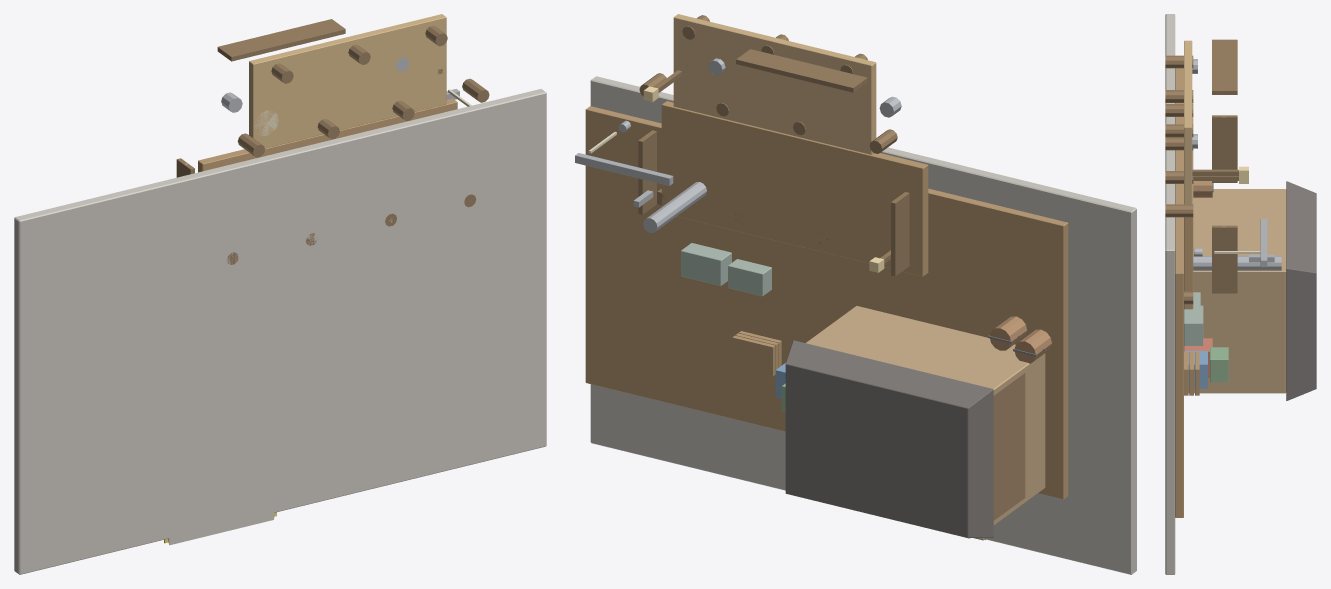
The model's file is docks.fbx.
3 views of the same model, side by side, from view 1: azimuth 30°, elevation 25°; view 2: azimuth 150°, elevation 25°; view 3: azimuth 270°, elevation 25° (orthographic). The views are drawn at different scales.
Visible parts, largest first — view 1: GroundBase, PierDeck_02, LoadingRamp, DockRail_05, PierDeck_01; view 2: CargoPlatform, GroundBase, WarehouseRoof, PierDeck_01, PierDeck_02, WarehouseShed, WarehouseTrim_Side, DockRail_05, CoveredBundle_01, DockRail_01, PalletStack_Level_03, CoveredBundle_02 (+5 smaller); view 3: WarehouseShed, WarehouseRoof, GroundBase, CargoPlatform, DockRail_02, PierDeck_02, DockRail_01, DockRail_05, PierDeck_01, CoveredBundle_01, CraneMast, CargoCrate_03 (+16 smaller).
Boxes of the visible parts, left/top/right/bottom form: GroundBase: left=14, top=89, right=546, bottom=574; PierDeck_02: left=249, top=14, right=446, bottom=148; LoadingRamp: left=168, top=468, right=274, bottom=545; DockRail_05: left=217, top=19, right=345, bottom=61; PierDeck_01: left=198, top=98, right=457, bottom=172; CargoPlatform: left=585, top=106, right=1068, bottom=499; GroundBase: left=590, top=76, right=1136, bottom=574; WarehouseRoof: left=785, top=340, right=993, bottom=538; PierDeck_01: left=661, top=101, right=928, bottom=276; PierDeck_02: left=673, top=14, right=876, bottom=154; WarehouseShed: left=806, top=306, right=1045, bottom=525; WarehouseTrim_Side: left=993, top=373, right=1025, bottom=520; DockRail_05: left=736, top=49, right=867, bottom=92; CoveredBundle_01: left=681, top=243, right=731, bottom=285; DockRail_01: left=891, top=192, right=909, bottom=276; PalletStack_Level_03: left=732, top=335, right=775, bottom=376; CoveredBundle_02: left=728, top=259, right=771, bottom=296; WarehouseShed: left=1188, top=189, right=1286, bottom=393; WarehouseRoof: left=1286, top=181, right=1316, bottom=400; GroundBase: left=1165, top=14, right=1175, bottom=574; CargoPlatform: left=1175, top=68, right=1183, bottom=517; DockRail_02: left=1212, top=225, right=1237, bottom=293; PierDeck_02: left=1184, top=40, right=1192, bottom=204; DockRail_01: left=1212, top=115, right=1237, bottom=182; DockRail_05: left=1212, top=39, right=1237, bottom=94; PierDeck_01: left=1184, top=103, right=1193, bottom=309; CoveredBundle_01: left=1184, top=305, right=1203, bottom=345; CraneMast: left=1193, top=256, right=1281, bottom=270; CargoCrate_03: left=1210, top=347, right=1228, bottom=382.
Bounding box in the file's own units: 1200 × 979 × 325.
